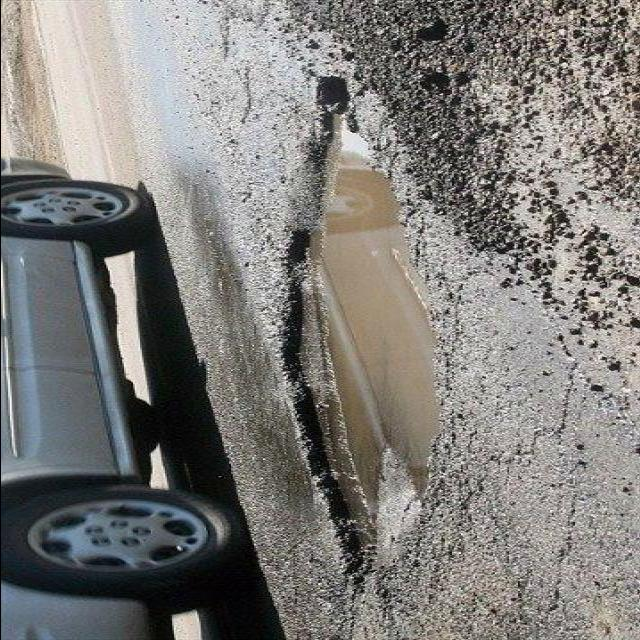jalan retak: (480, 322, 606, 638), (278, 564, 451, 638)
lubang: (262, 65, 456, 594)
